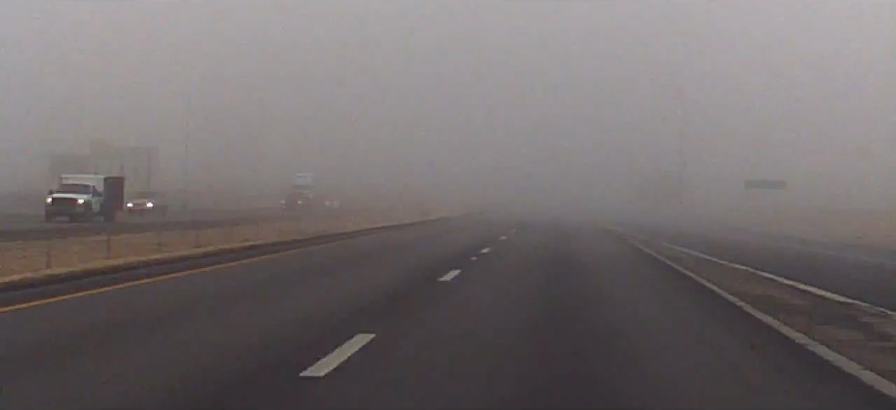car: (43, 172, 124, 223), (124, 186, 169, 217), (276, 191, 313, 218), (325, 194, 350, 213)
